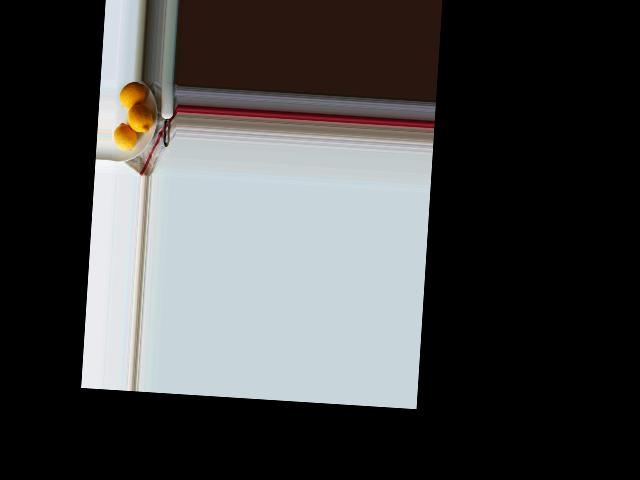lemon: (118, 78, 144, 109)
